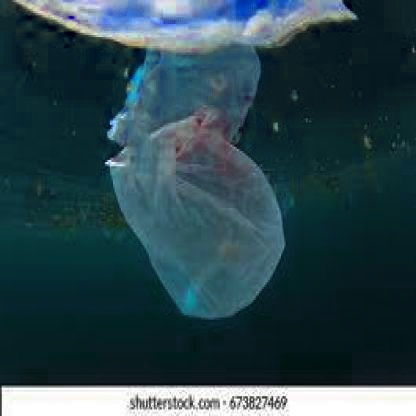pbag: (100, 116, 288, 320)
